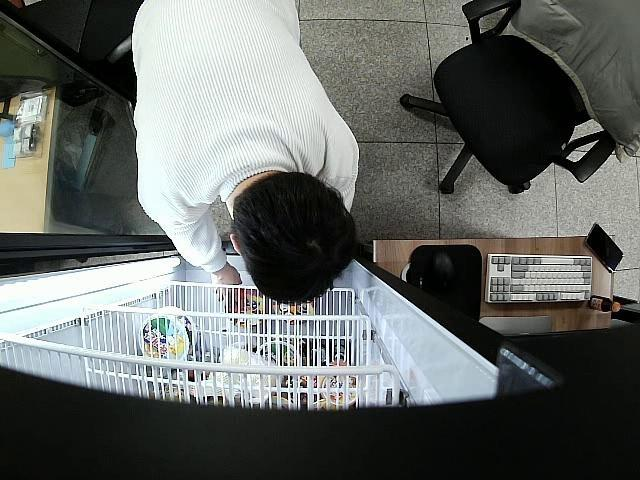05_nuguri_L: (232, 288, 268, 324)
